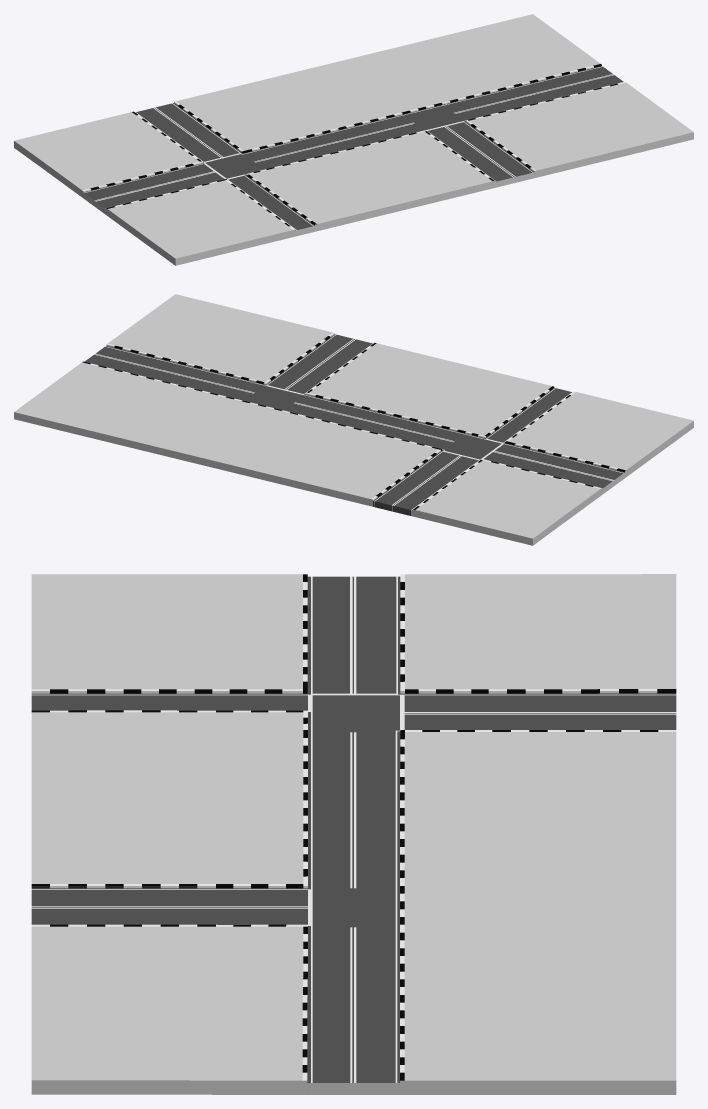
File: Level4Road.FBX
3 views of the same model, one above another, from view 1: azimuth 30°, elevation 25°; view 2: azimuth 150°, elevation 25°; view 3: azimuth 270°, elevation 25° (orthographic). The views are drawn at different scales.
Parts seen in each view (by area): view 1: level 4 road; view 2: level 4 road; view 3: level 4 road.
Boxes of the visible parts, <box> form: level 4 road: <box>14,14,693,265</box>; level 4 road: <box>14,294,693,545</box>; level 4 road: <box>31,574,676,1094</box>.
Size of the model in its own units: 3585 by 47.28 by 1929.
